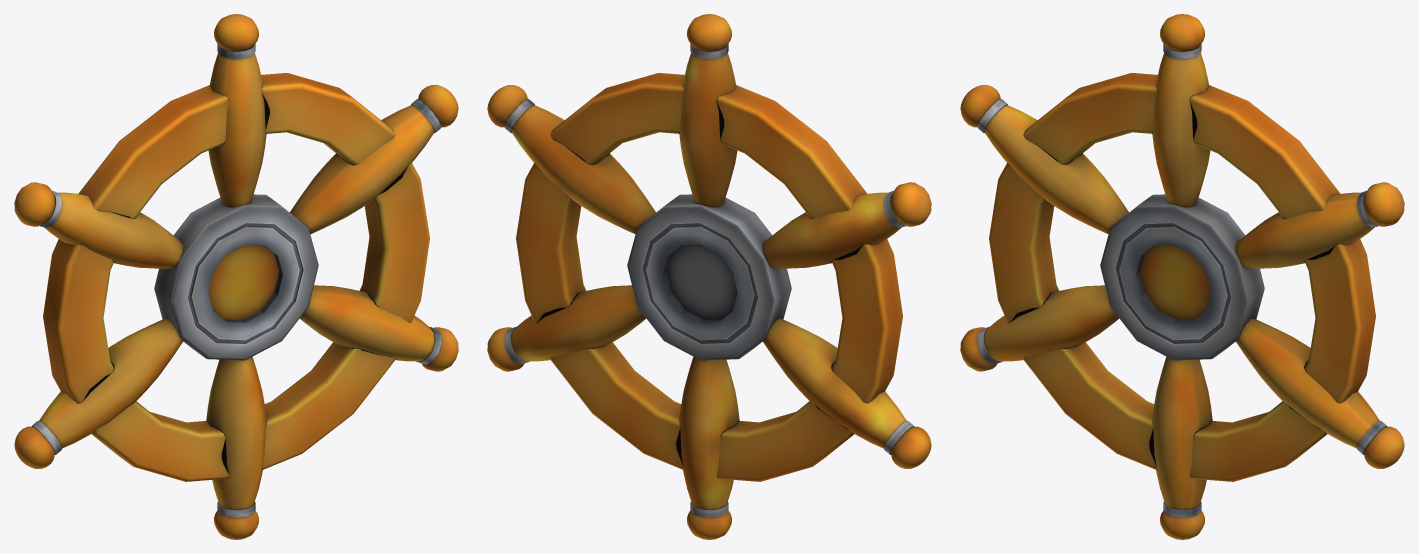
File: Wheel.fbx
3 views of the same model, side by side, from view 1: azimuth 30°, elevation 25°; view 2: azimuth 150°, elevation 25°; view 3: azimuth 330°, elevation 25° (orthographic).
Parts seen in each view (by area): view 1: Wheel; view 2: Wheel; view 3: Wheel.
Boxes of the visible parts, x1=… form: Wheel: x1=14, y1=14, x2=458, y2=539; Wheel: x1=487, y1=14, x2=931, y2=539; Wheel: x1=960, y1=14, x2=1404, y2=539.
Bounding box in the file's own units: 0.1384 × 0.1576 × 0.0167.
